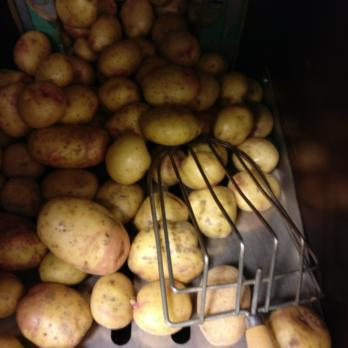Floury potato: (0, 29, 282, 224), (62, 0, 198, 333), (2, 201, 149, 348)
